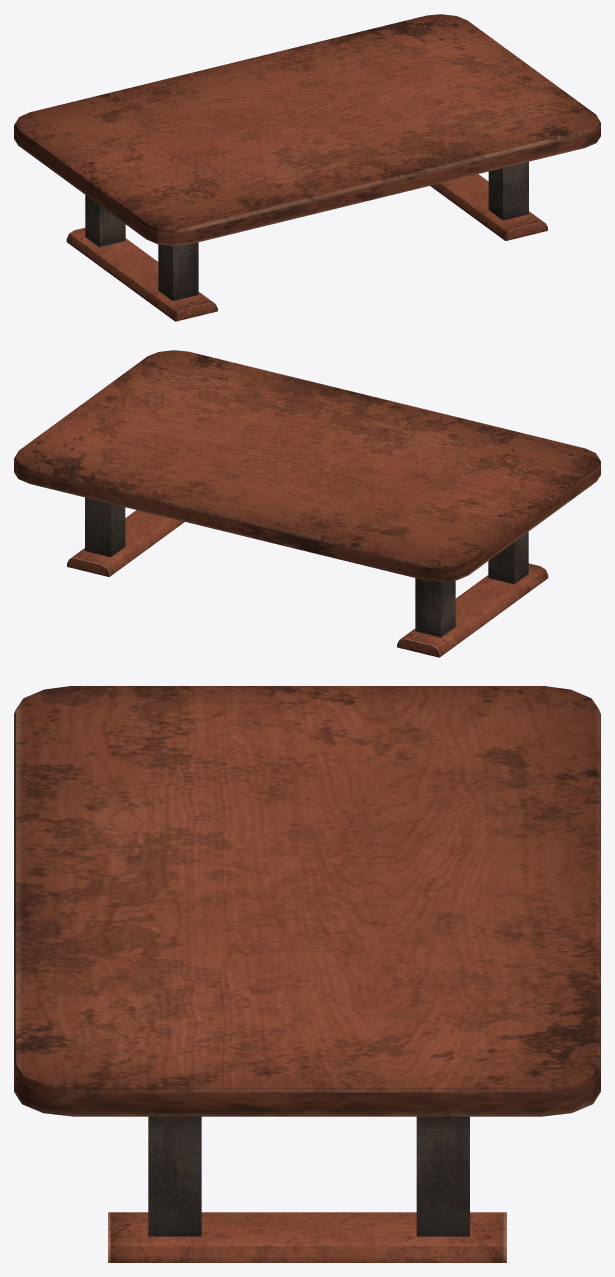
The model's file is FloorTable.fbx.
3 views of the same model, one above another, from view 1: azimuth 30°, elevation 25°; view 2: azimuth 150°, elevation 25°; view 3: azimuth 270°, elevation 25° (orthographic). The views are drawn at different scales.
Parts seen in each view (by area): view 1: FloorTable01; view 2: FloorTable01; view 3: FloorTable01.
Part boxes in pixels (x1,y1,x2,y2): FloorTable01: [14, 14, 600, 321]; FloorTable01: [14, 350, 600, 657]; FloorTable01: [14, 686, 600, 1262].
Size of the model in its own units: 67.49 by 16.46 by 41.54.
